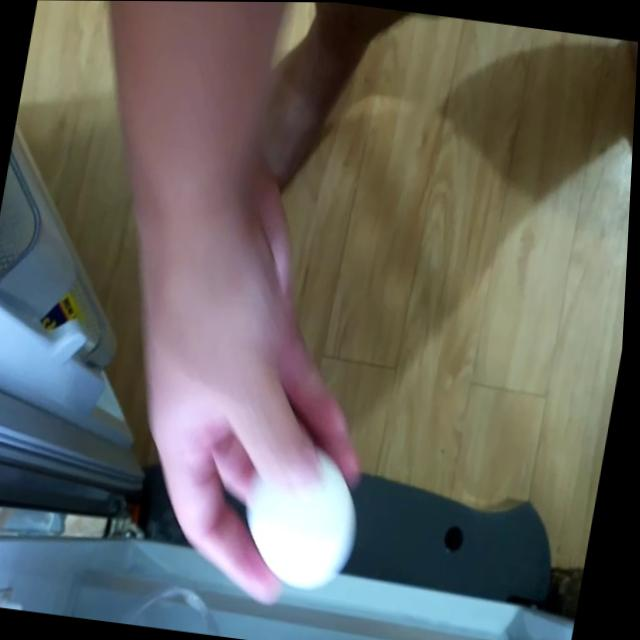egg: (233, 433, 377, 591)
